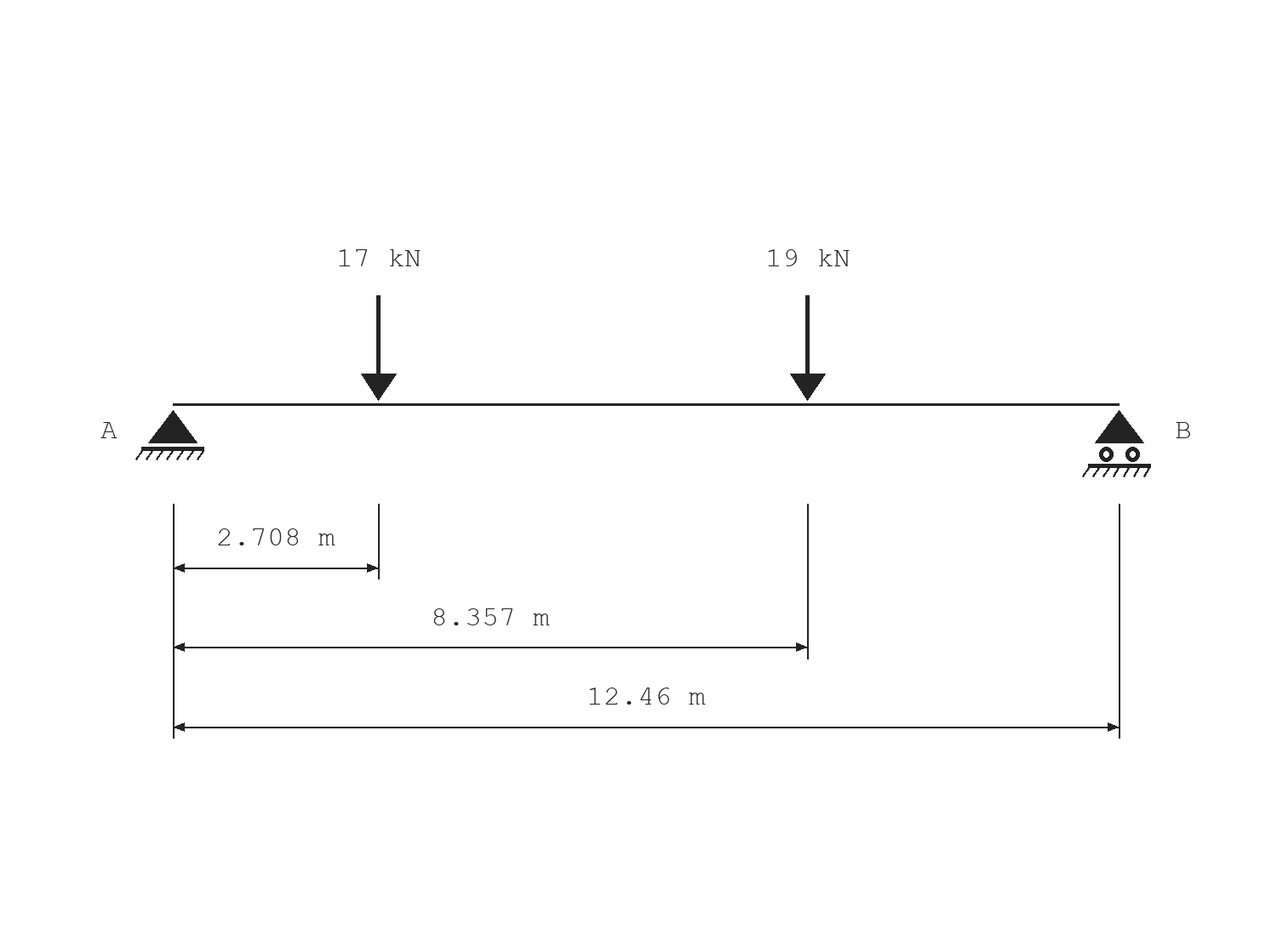pin_support: (135, 410, 204, 460)
point_load: (361, 295, 397, 401), (790, 295, 826, 401)
roller_support: (1082, 410, 1151, 477)
